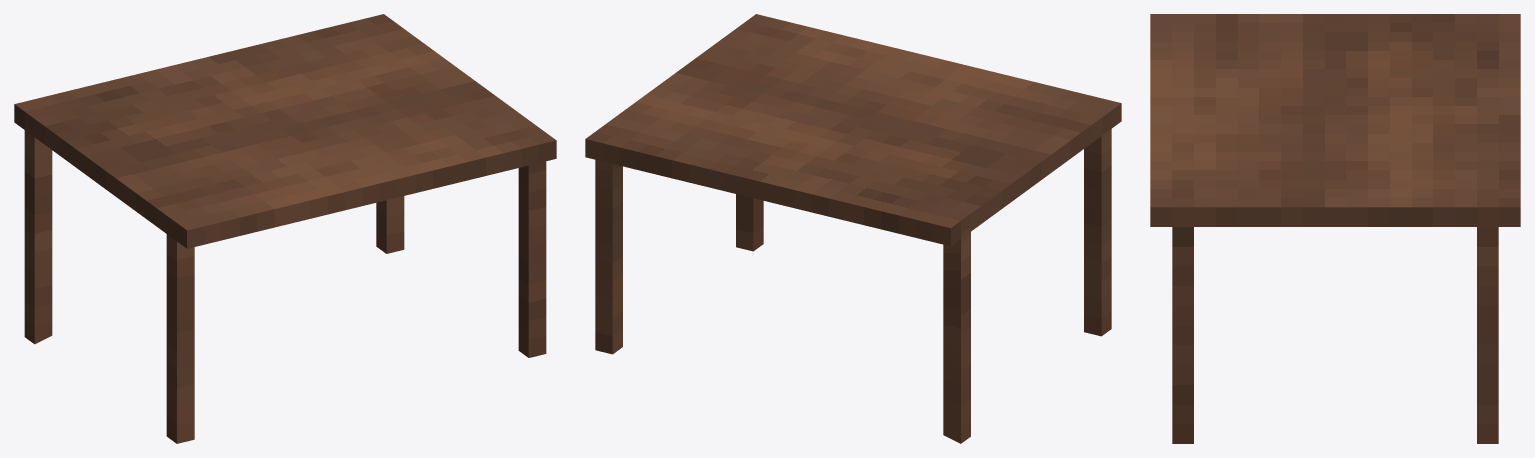
The model's file is office_table.gltf.
3 renders of one model, left to right at view 1: azimuth 30°, elevation 25°; view 2: azimuth 150°, elevation 25°; view 3: azimuth 270°, elevation 25°, orthographic. The views are drawn at different scales.
Parts seen in each view (by area): view 1: table_top, table_leg_fl, table_leg_bl, table_leg_br, table_leg_fr; view 2: table_top, table_leg_fl, table_leg_bl, table_leg_fr, table_leg_br; view 3: table_top, table_leg_fr, table_leg_br.
Boxes of the visible parts, box(x1,y1,x2,y2) form: table_top: box(14, 14, 556, 248); table_leg_fl: box(24, 126, 52, 344); table_leg_bl: box(166, 234, 194, 443); table_leg_br: box(518, 161, 546, 357); table_leg_fr: box(376, 196, 404, 253); table_top: box(585, 14, 1121, 246); table_leg_fl: box(943, 227, 970, 443); table_leg_bl: box(1084, 129, 1111, 336); table_leg_fr: box(595, 159, 622, 354); table_leg_br: box(736, 194, 763, 251); table_top: box(1150, 14, 1520, 226); table_leg_fr: box(1477, 227, 1498, 443); table_leg_br: box(1172, 227, 1193, 443).
Bounding box in the file's own units: 1.31 × 0.7656 × 1.06.
Materials: 1 (1 with a texture image).
